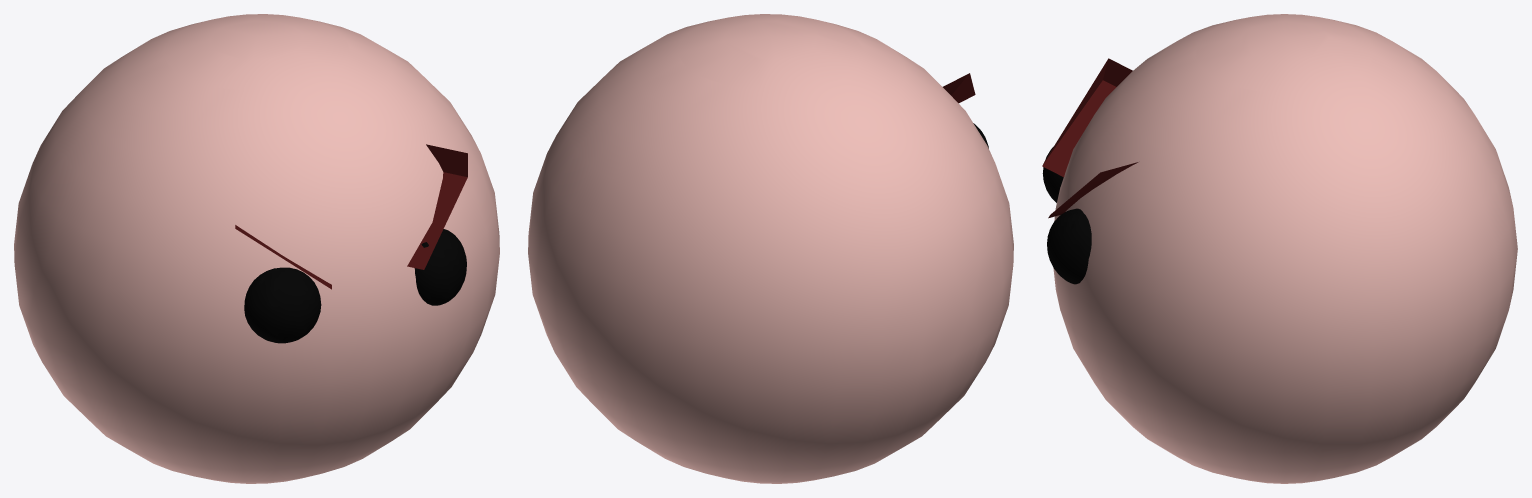
Rendered from enemigo.fbx.
3 renders of one model, left to right at view 1: azimuth 30°, elevation 25°; view 2: azimuth 150°, elevation 25°; view 3: azimuth 270°, elevation 25°, orthographic.
Visible parts, largest first — view 1: enemigo, enemigo.002, enemigo.001, enemigo.003; view 2: enemigo, enemigo.004; view 3: enemigo, enemigo.004, enemigo.001, enemigo.003.
Part boxes in pixels (<box>): enemigo: <box>14,14,499,483</box>; enemigo.002: <box>244,267,321,343</box>; enemigo.001: <box>414,229,466,305</box>; enemigo.003: <box>407,144,467,269</box>; enemigo: <box>528,14,1013,483</box>; enemigo.004: <box>943,73,975,103</box>; enemigo: <box>1053,14,1517,483</box>; enemigo.004: <box>1042,58,1132,177</box>; enemigo.001: <box>1047,208,1091,284</box>; enemigo.003: <box>1048,162,1138,218</box>.
Size of the model in its own units: 405 by 387 by 395.
